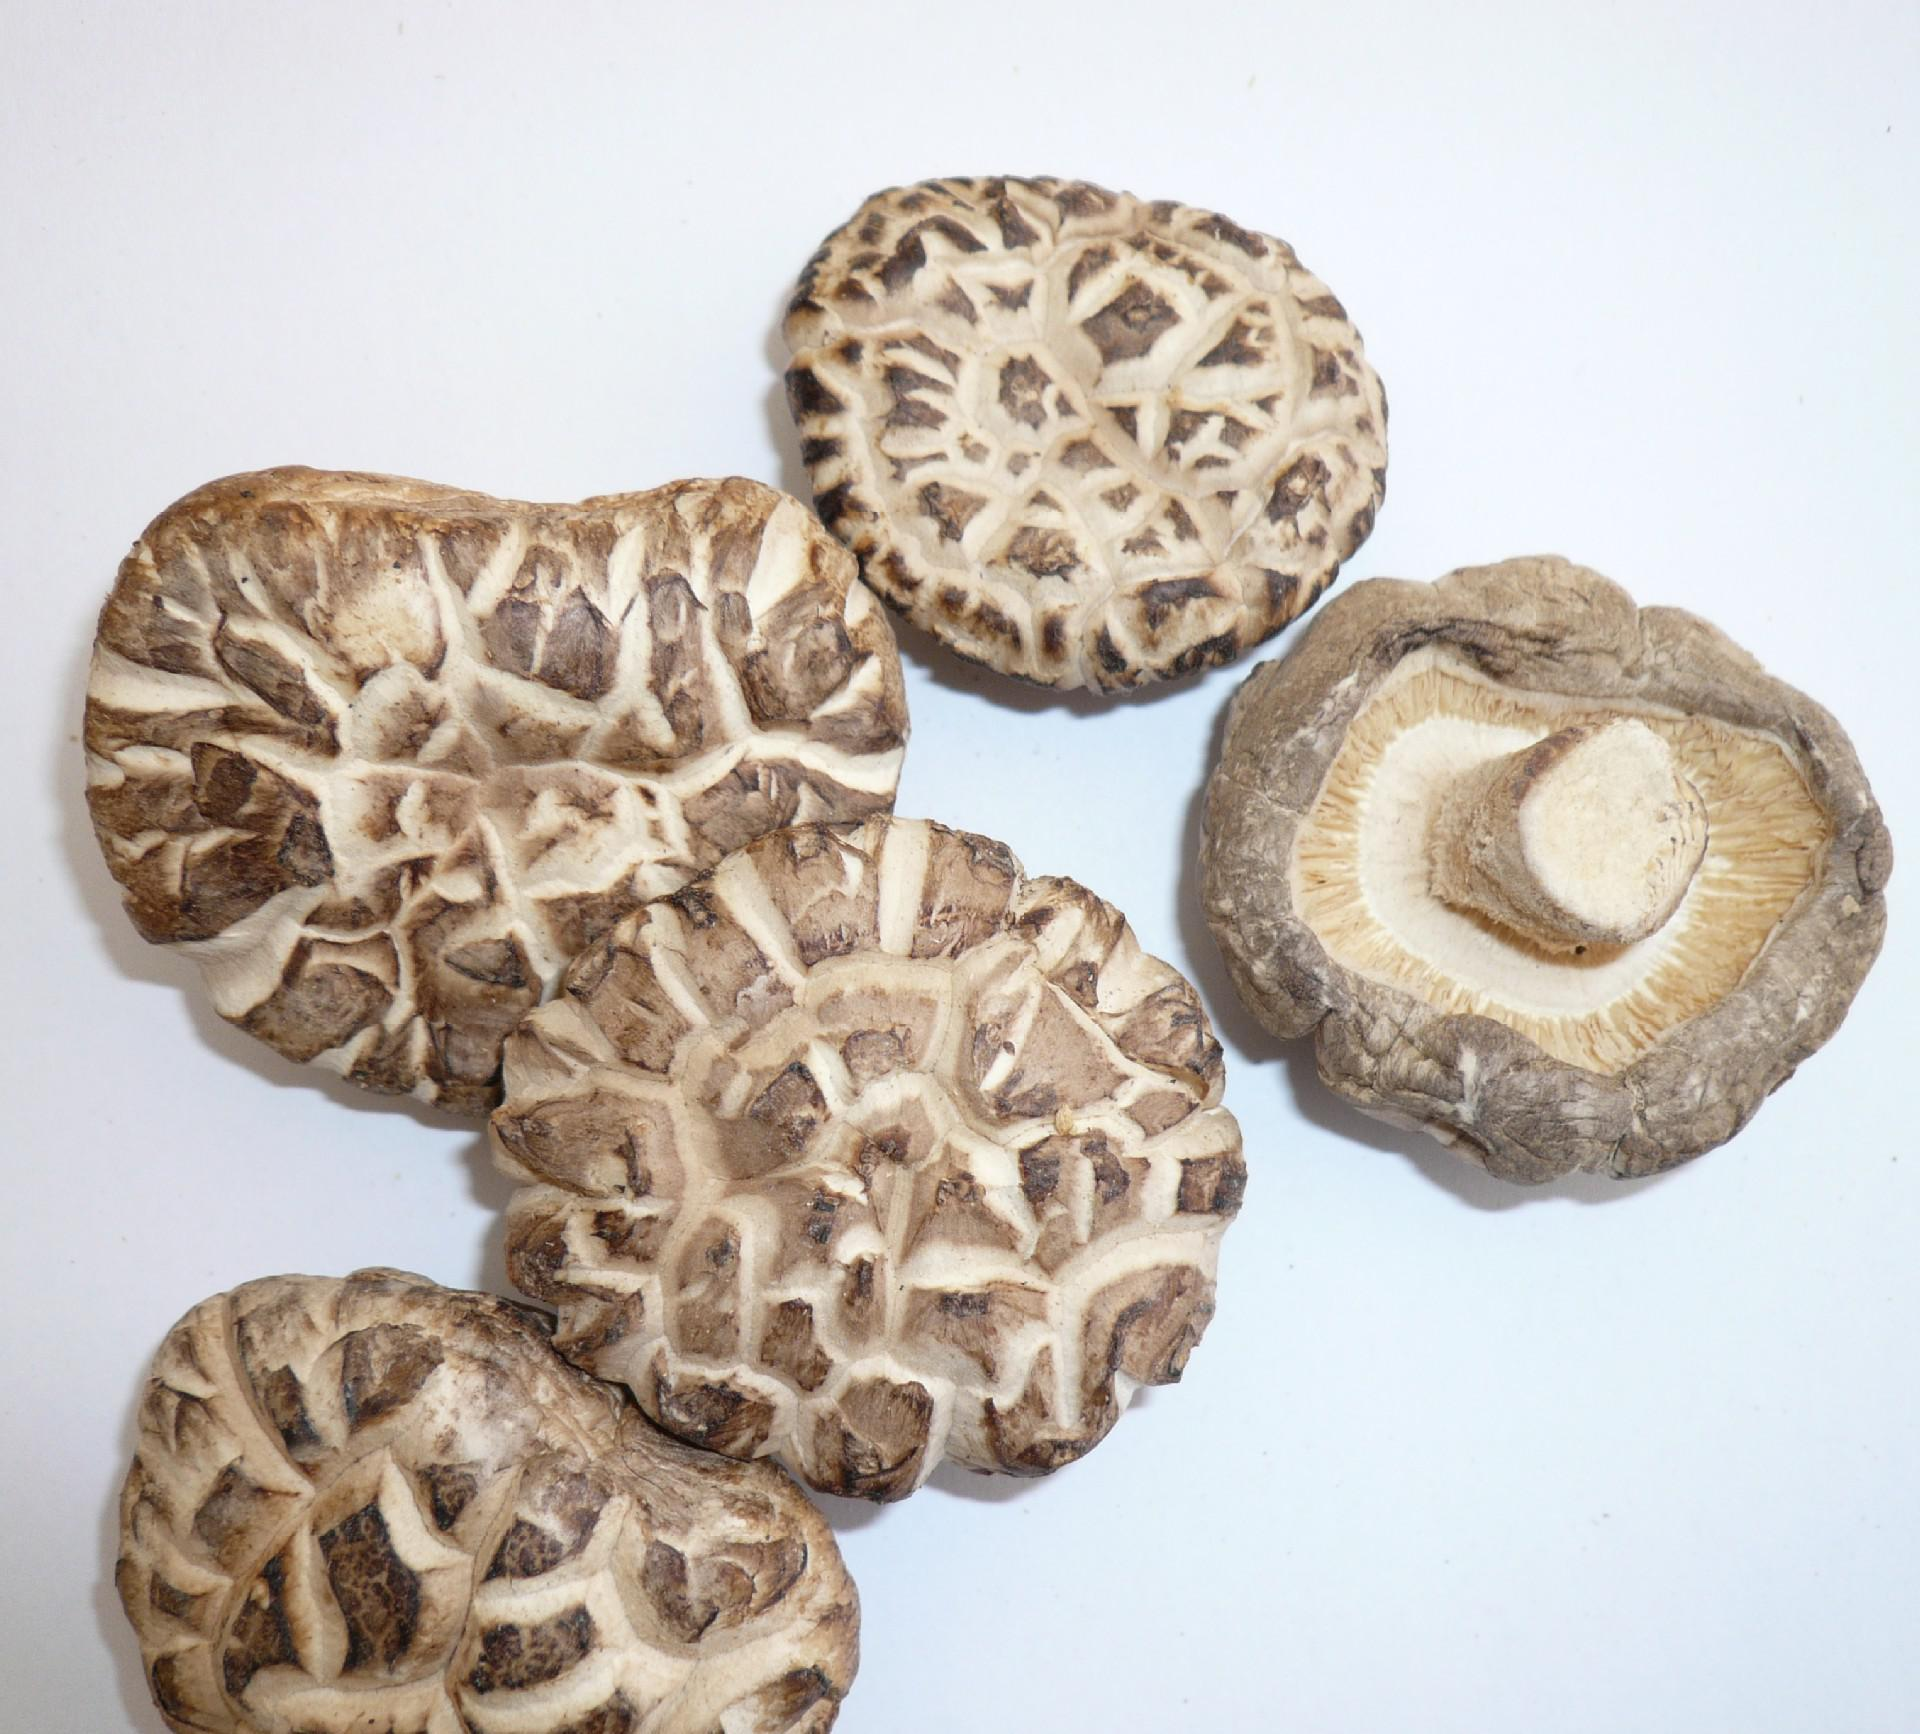H: (72, 437, 888, 1063), (511, 854, 1255, 1452), (124, 1304, 848, 1733), (787, 141, 1381, 643)
